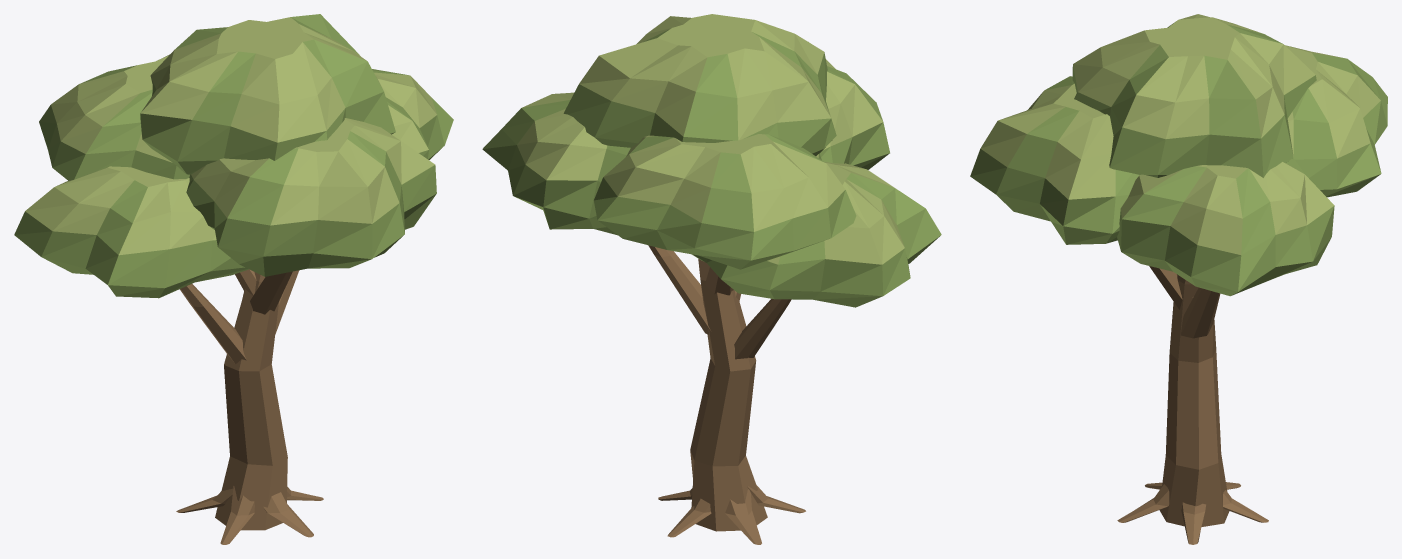
Rendered from holm_arrival_oak_v1.glb.
3 views of the same model, side by side, from view 1: azimuth 30°, elevation 25°; view 2: azimuth 150°, elevation 25°; view 3: azimuth 270°, elevation 25° (orthographic).
Visible parts, largest first — view 1: OakCrown, OakTimber; view 2: OakCrown, OakTimber; view 3: OakCrown, OakTimber.
Boxes of the visible parts, box(x1,y1,x2,y2) form: OakCrown: box(14, 14, 453, 298); OakTimber: box(176, 269, 323, 544); OakCrown: box(482, 14, 941, 307); OakTimber: box(648, 245, 805, 544); OakCrown: box(970, 14, 1387, 296); OakTimber: box(1117, 266, 1268, 544).
Bounding box in the file's own units: 4.8 × 5.24 × 4.1.
